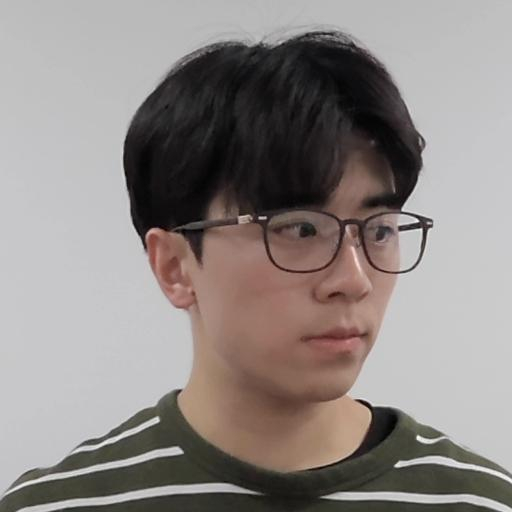no_glasses: (114, 32, 445, 408)
